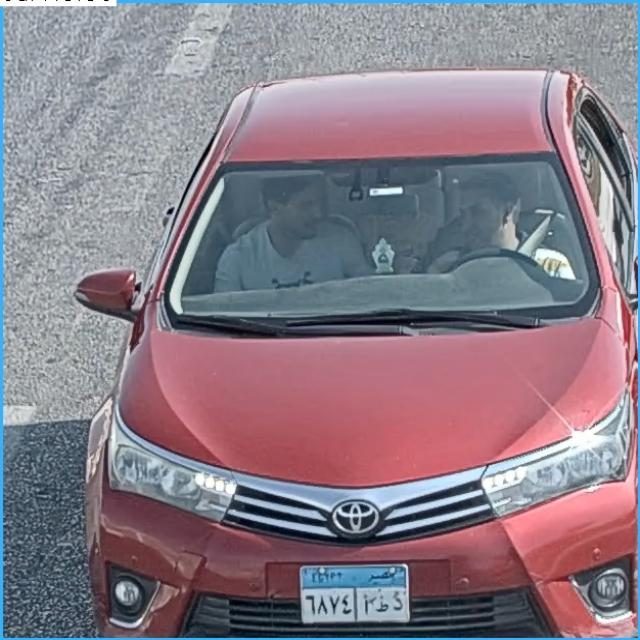windshield: (162, 150, 580, 326)
